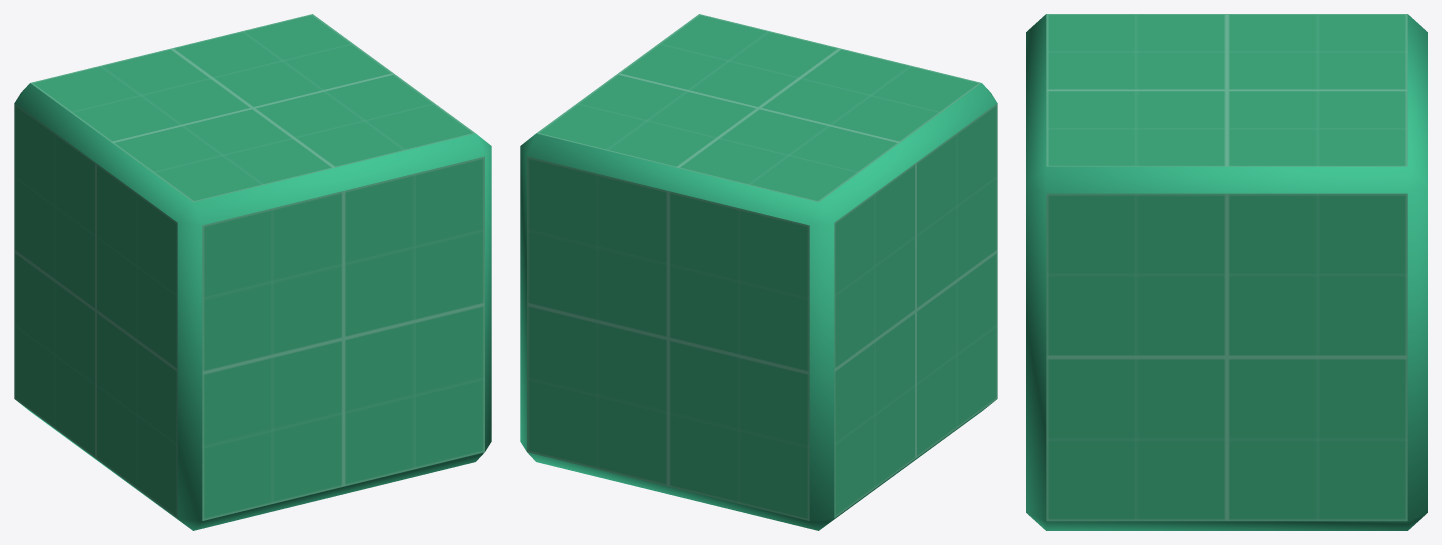
Rendered from green-box.glb.
The picture shows the model from 3 angles, left to right: view 1: azimuth 30°, elevation 25°; view 2: azimuth 150°, elevation 25°; view 3: azimuth 270°, elevation 25°; orthographic projection. The views are drawn at different scales.
Parts seen in each view (by area): view 1: Cube_Prototype_Small.003; view 2: Cube_Prototype_Small.003; view 3: Cube_Prototype_Small.003.
Boxes of the visible parts, x1,y1,x2,y2 form: Cube_Prototype_Small.003: (14, 14, 491, 530); Cube_Prototype_Small.003: (520, 14, 997, 530); Cube_Prototype_Small.003: (1026, 14, 1427, 530).
Size of the model in its own units: 2 by 2 by 2.
1 material, 1 textured.
